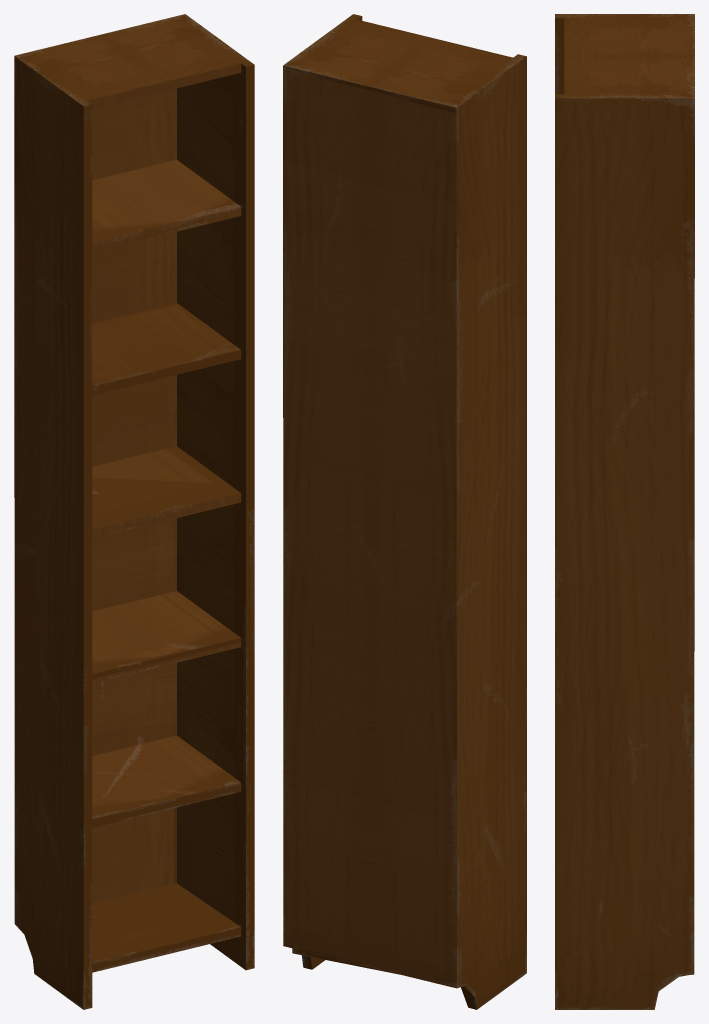
Rendered from bookcase.fbx.
3 views of the same model, side by side, from view 1: azimuth 30°, elevation 25°; view 2: azimuth 150°, elevation 25°; view 3: azimuth 270°, elevation 25° (orthographic).
Visible parts, largest first — view 1: Ikea Billy; view 2: Ikea Billy; view 3: Ikea Billy.
Part boxes in pixels (box(x1,y1,x2,y2)): Ikea Billy: box(14, 14, 254, 1009); Ikea Billy: box(283, 14, 526, 1009); Ikea Billy: box(555, 14, 694, 1009).
Bounding box in the file's own units: 48.01 × 242 × 33.72.
Materials: 1 (1 with a texture image).
